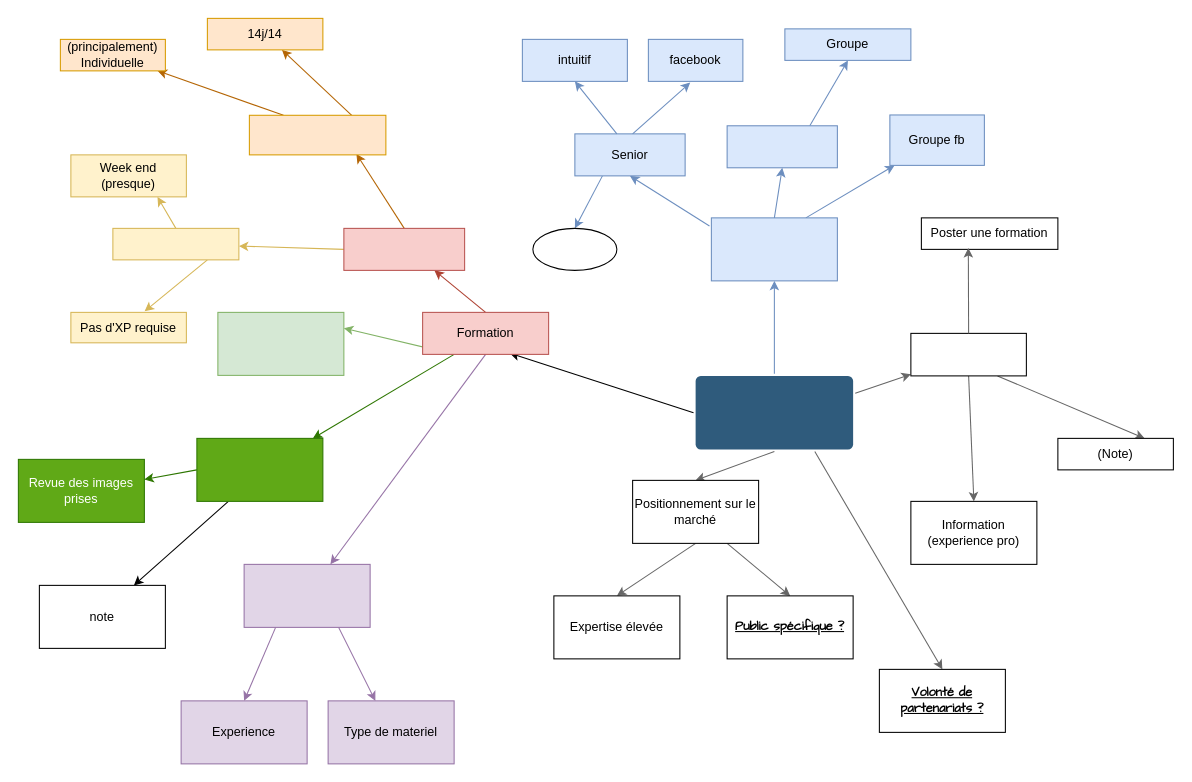
Image size: 1192x782. Some labels were removed from this diagram. Each missing label, with the centre of its shape:
2 types de formations: the point at 404,248
Cible "clientelle": the point at 773,249
Club photo: the point at 781,146
Declenchutil: the point at 774,412
Disponibilité: the point at 574,248
Feedback: the point at 259,469
Formateur.rice(s): the point at 968,354
Groupe homogène: the point at 306,595
Générale: the point at 317,134
Localisée: the point at 280,343
Spécialisé: the point at 175,243
